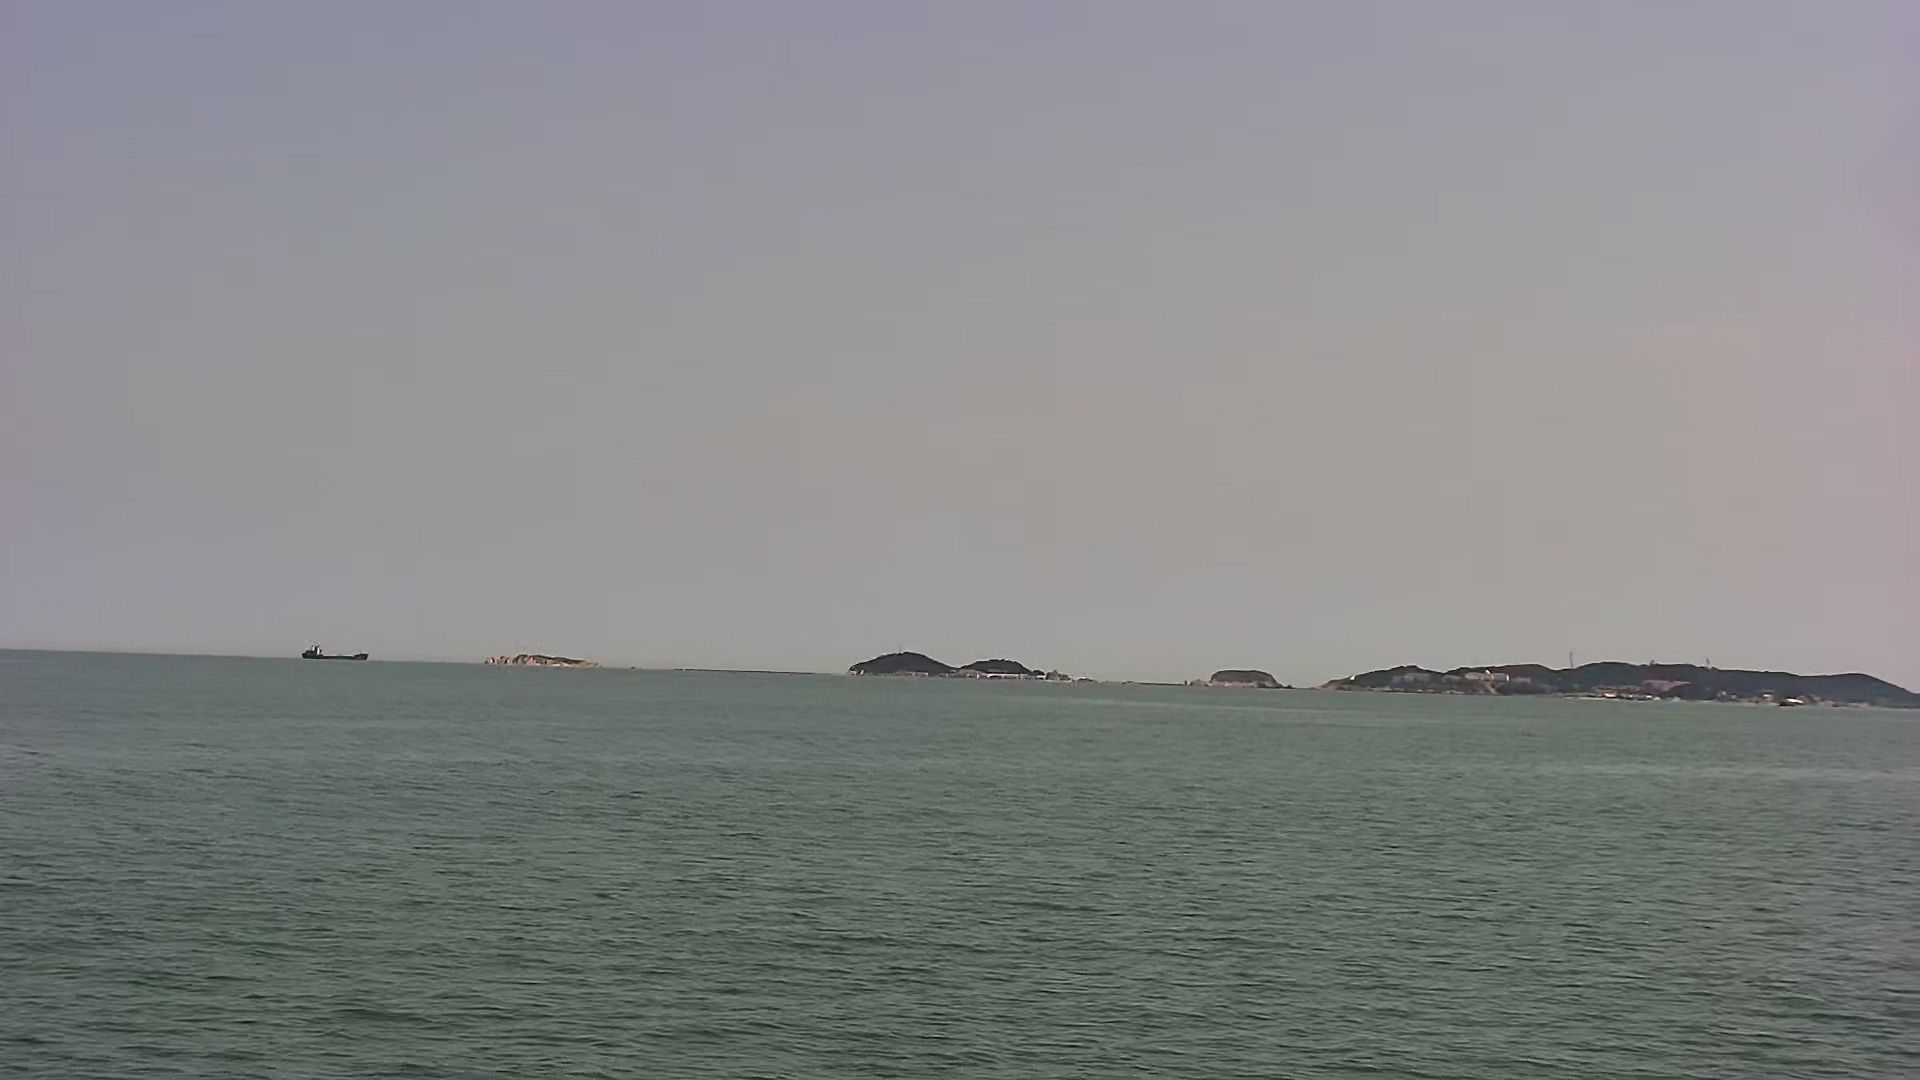rock: (1319, 657, 1920, 711), (836, 649, 1100, 688), (1182, 669, 1302, 695), (477, 651, 604, 669)
ship: (295, 642, 373, 663)
